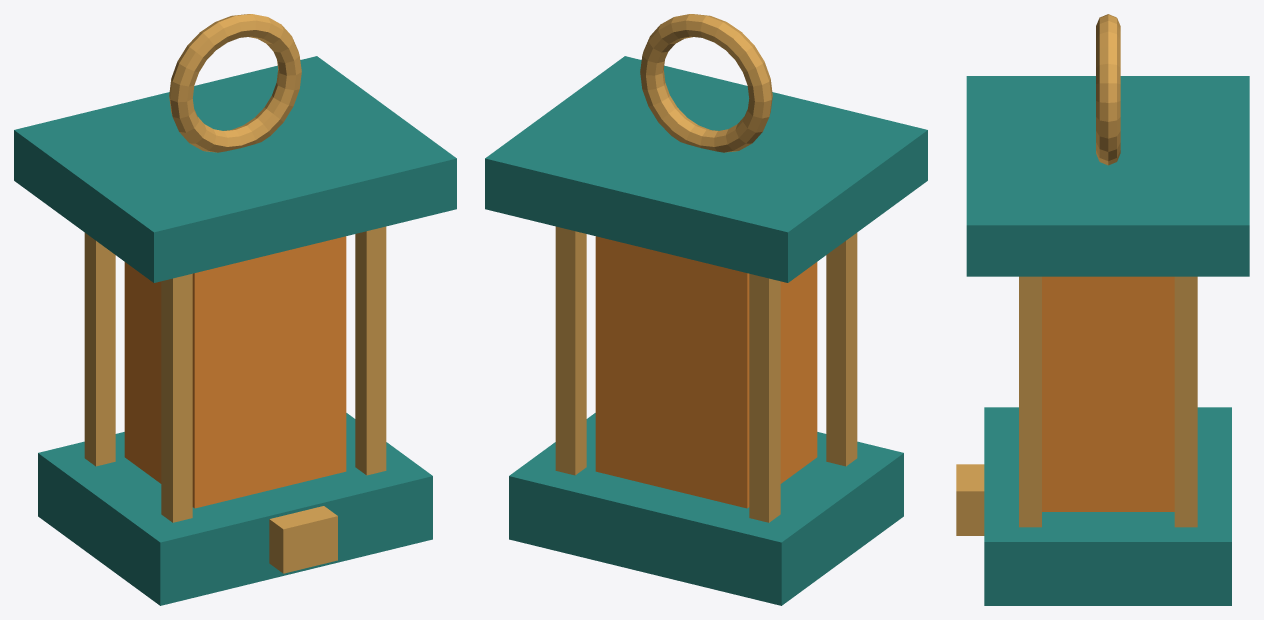
Rendered from moss.glb.
3 views of the same model, side by side, from view 1: azimuth 30°, elevation 25°; view 2: azimuth 150°, elevation 25°; view 3: azimuth 270°, elevation 25° (orthographic).
Parts seen in each view (by area): view 1: Canopy, Amber core, Lantern base, Torus, Brass frame.002, Brass frame, Brass frame.001, Front clasp; view 2: Canopy, Amber core, Lantern base, Torus, Brass frame.003, Brass frame.001, Brass frame; view 3: Canopy, Amber core, Lantern base, Brass frame.003, Brass frame.002, Torus, Front clasp.
Boxes of the visible parts, <box> form: Canopy: <box>14,56,456,282</box>; Amber core: <box>124,236,346,508</box>; Lantern base: <box>38,413,432,605</box>; Torus: <box>169,14,301,152</box>; Brass frame.002: <box>355,226,386,475</box>; Brass frame: <box>161,273,192,522</box>; Brass frame.001: <box>84,233,115,466</box>; Front clasp: <box>269,506,337,573</box>; Canopy: <box>485,56,927,282</box>; Amber core: <box>595,236,817,508</box>; Lantern base: <box>509,413,903,605</box>; Torus: <box>640,14,772,152</box>; Brass frame.003: <box>555,226,586,475</box>; Brass frame.001: <box>749,273,780,522</box>; Brass frame: <box>826,233,857,466</box>; Canopy: <box>966,76,1249,276</box>; Amber core: <box>1042,276,1174,511</box>; Lantern base: <box>984,407,1231,605</box>; Brass frame.003: <box>1174,276,1197,527</box>; Brass frame.002: <box>1019,276,1041,527</box>; Torus: <box>1096,14,1120,165</box>; Front clasp: <box>956,464,984,535</box>.
Size of the model in its own units: 1 by 1.62 by 0.83.
